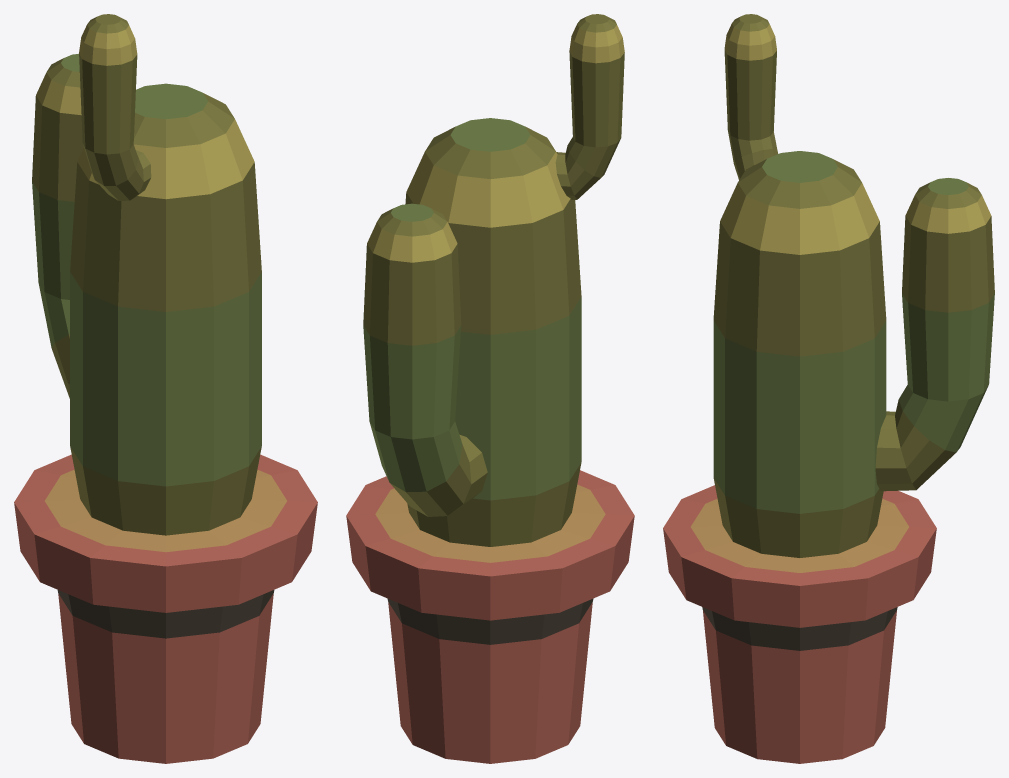
The model's file is Cactus.fbx.
The picture shows the model from 3 angles, left to right: view 1: azimuth 30°, elevation 25°; view 2: azimuth 150°, elevation 25°; view 3: azimuth 270°, elevation 25°; orthographic projection. The views are drawn at different scales.
Visible parts, largest first — view 1: Cactus; view 2: Cactus; view 3: Cactus.
Boxes of the visible parts, bbox=[...] form: Cactus: bbox=[14, 14, 317, 763]; Cactus: bbox=[346, 14, 634, 763]; Cactus: bbox=[663, 14, 994, 763].
Size of the model in its own units: 187 by 507 by 227.
